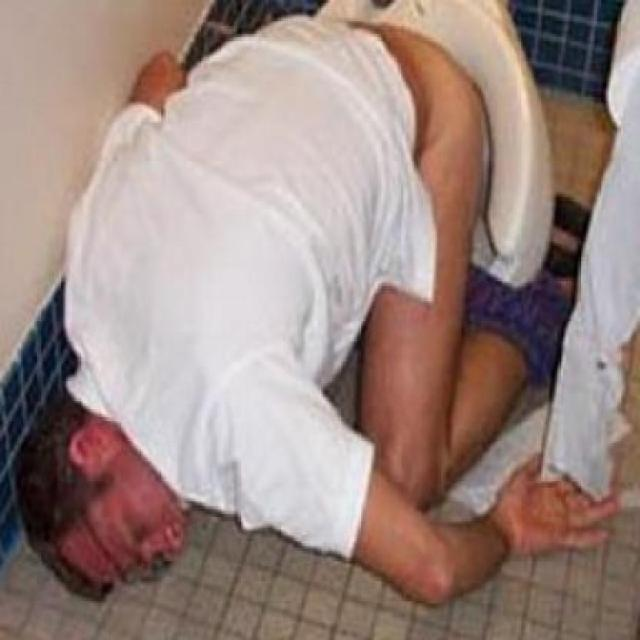fall: (27, 14, 621, 606)
